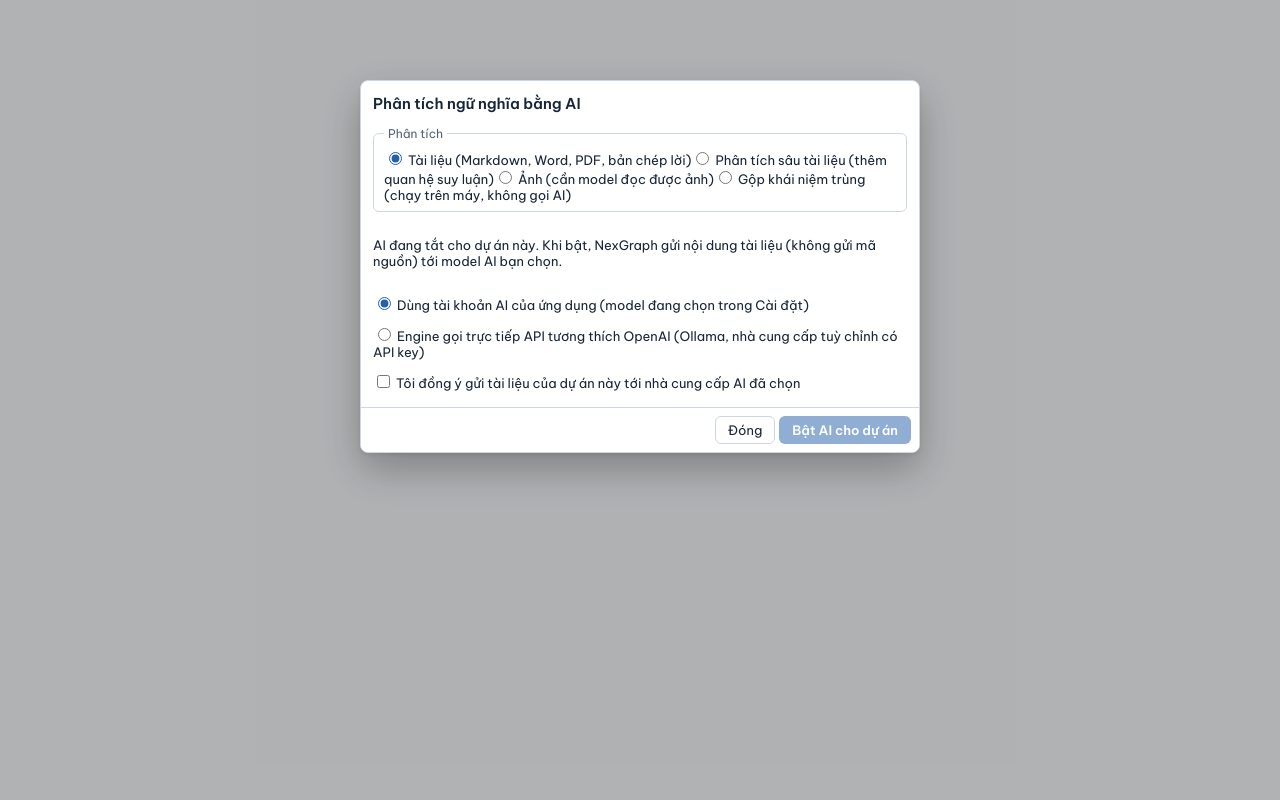
SemanticDialog › AI tắt mặc định: phải đồng ý mới bật, rồi xem ước tính và chạy
The image size is (1280, 800).
Expected: the button "Bật AI cho dự án" is disabled, [779, 416, 911, 444]
What coordinates should you click on to do the following:
click the radio button labelled "Engine gọi trực tiếp"
I would click on:
 (384, 334)
Its box is [378, 328, 391, 341].
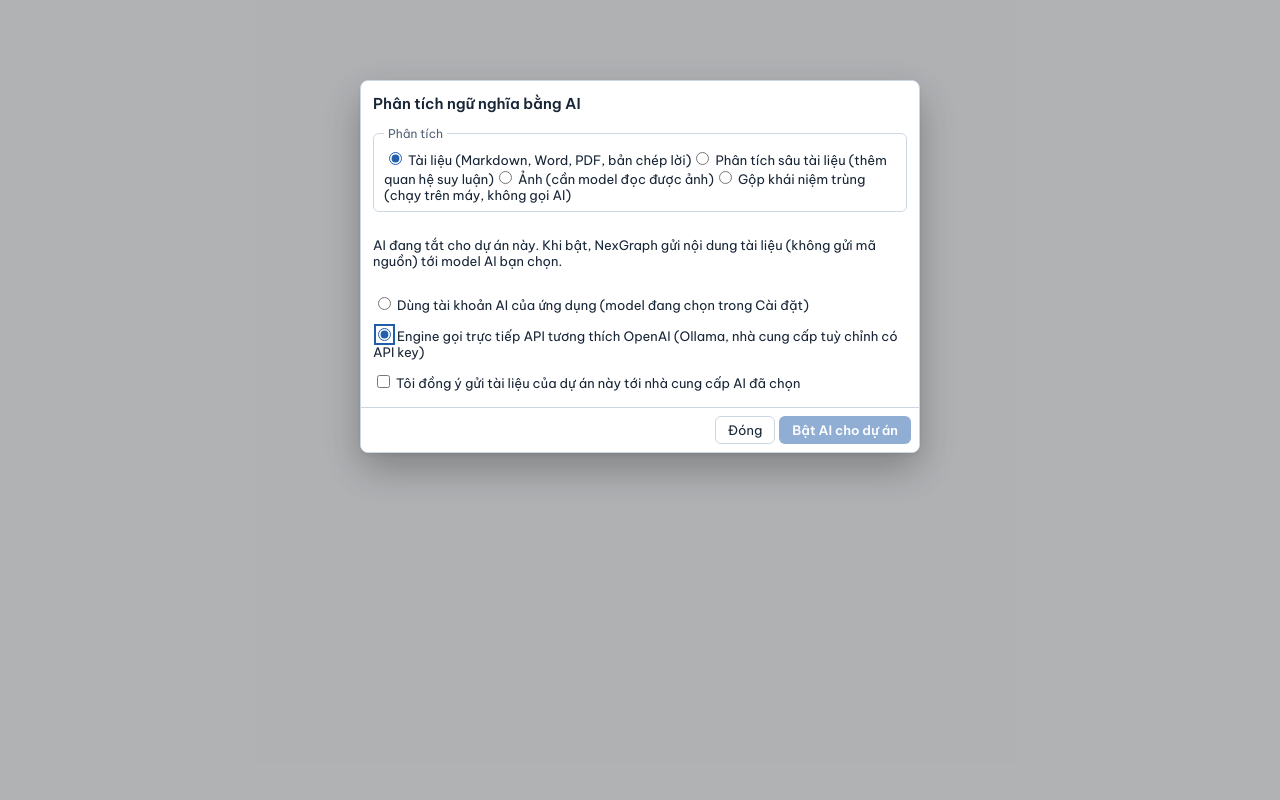
What coordinates should you click on to do the following:
click the checkbox labelled "Tôi đồng ý"
I would click on:
 (384, 382)
Its box is [377, 375, 390, 388].
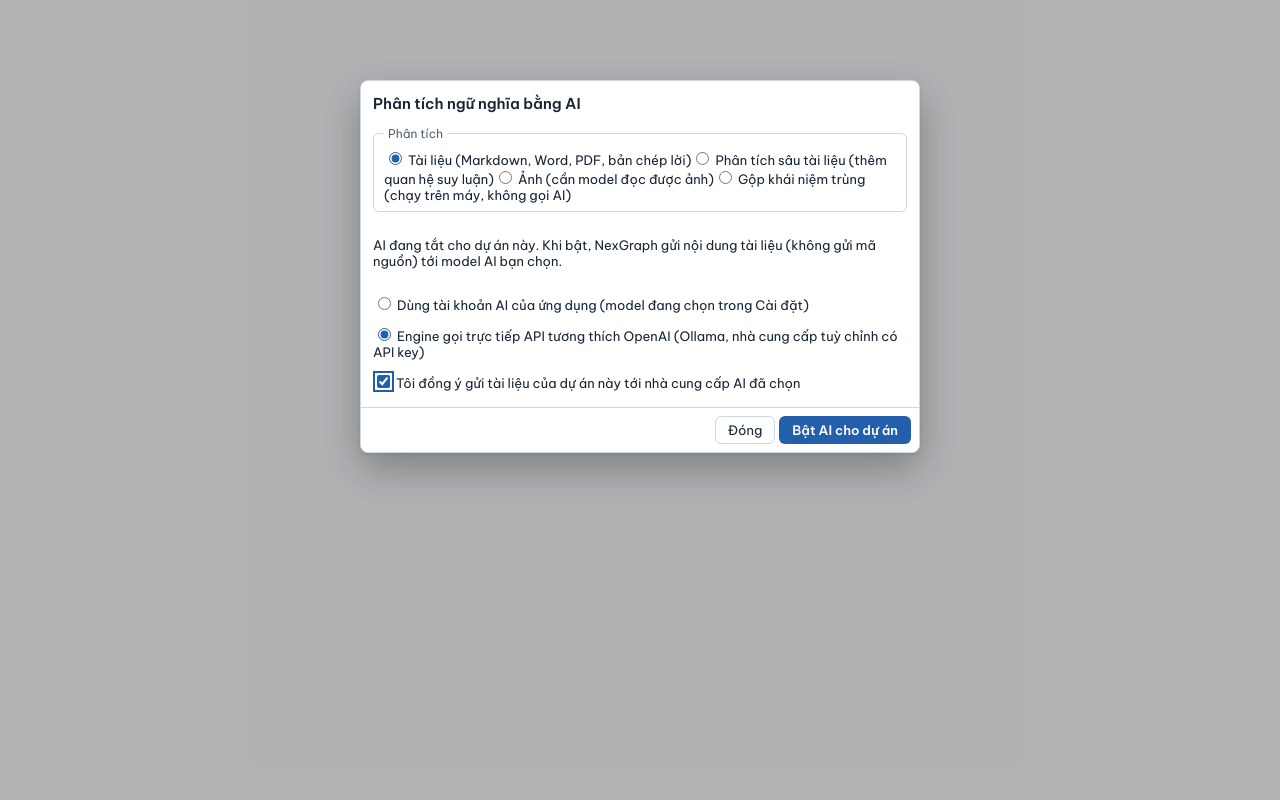
What coordinates should you click on to do the following:
click the button "Bật AI cho dự án"
I would click on:
 (845, 430)
Its box is [779, 416, 911, 444].
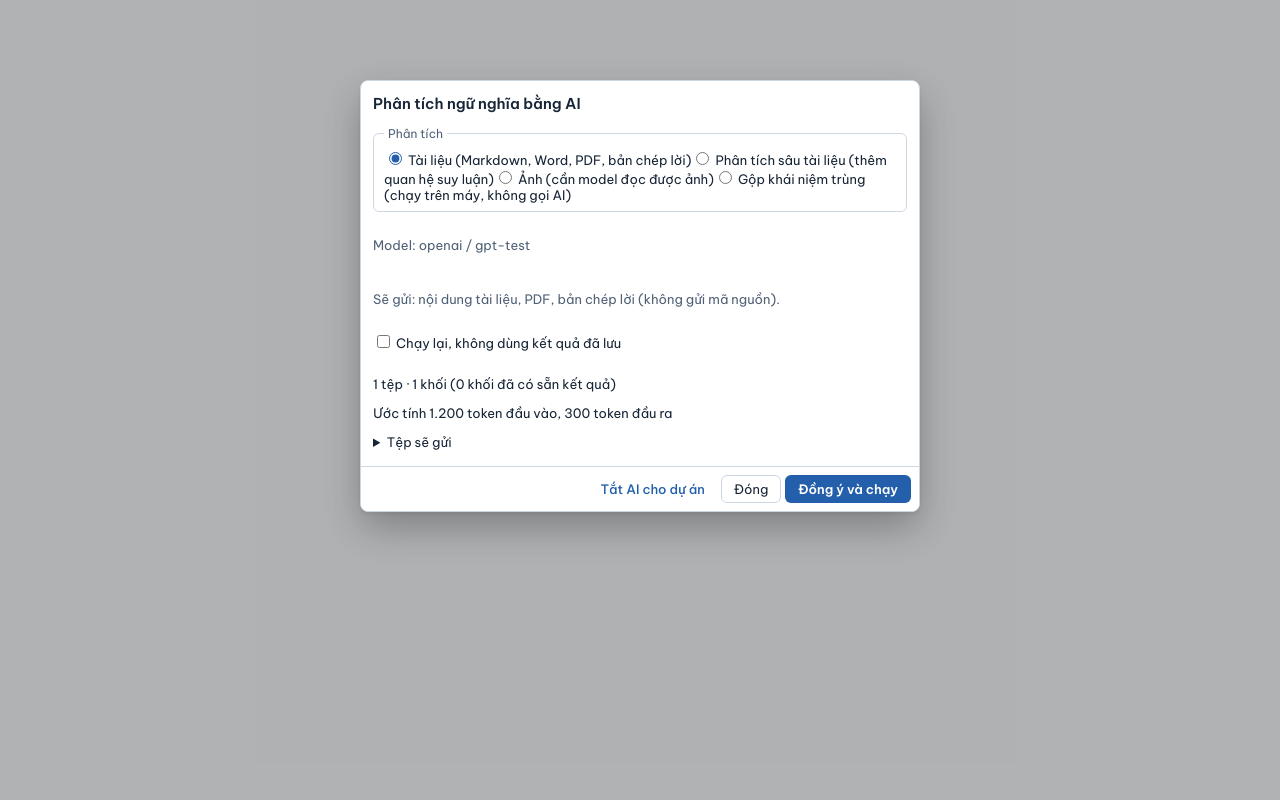
Expected: the text "1 tệp · 1 khối (0 khối đã có sẵn kết quả)" is shown, [373, 376, 616, 392]
Expected: the text "Model: openai / gpt-test" is shown, [373, 237, 530, 253]
What coordinates should you click on to do the following:
click the button "Đồng ý và chạy"
I would click on:
 (848, 489)
Its box is [785, 475, 911, 503].
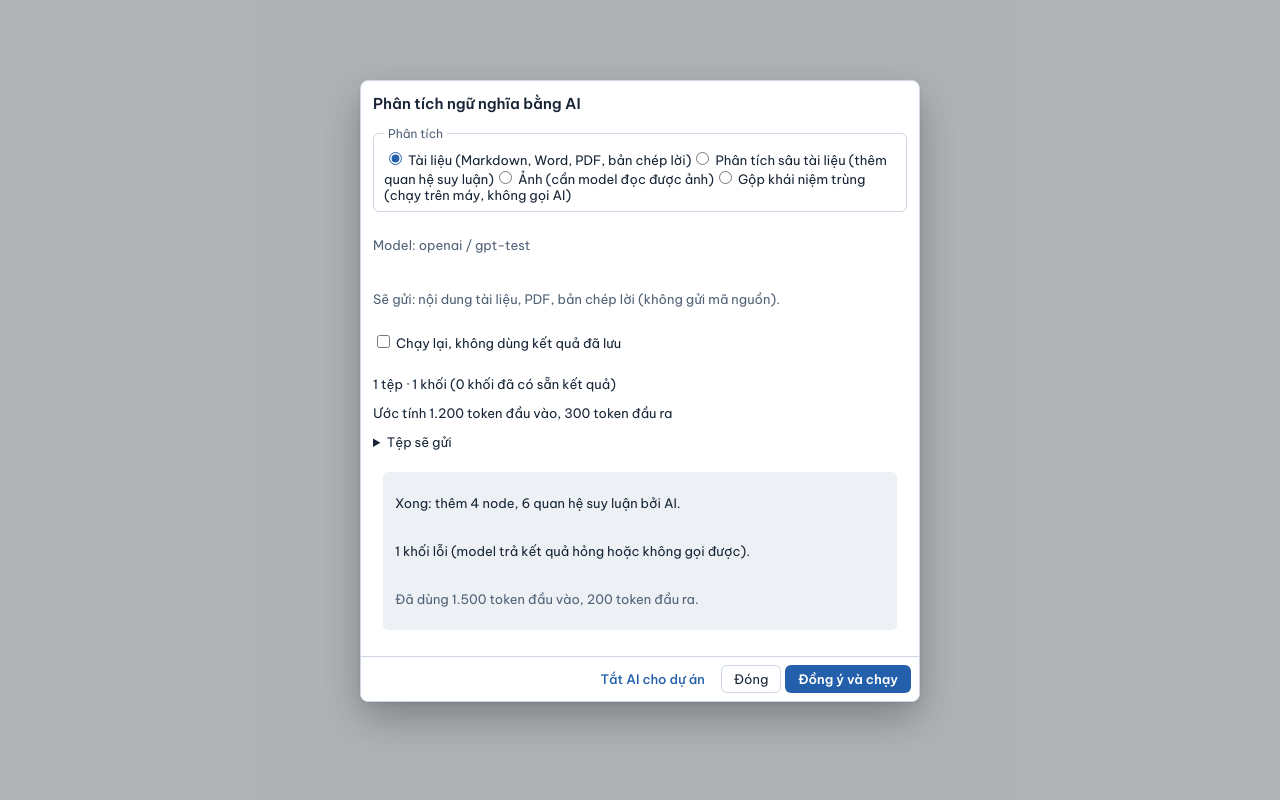
Expected: the text "Xong: thêm 4 node, 6 quan hệ suy luận bởi AI." is shown, [395, 495, 681, 511]
Expected: the text "1 khối lỗi (model trả kết quả hỏng hoặc không gọi được)." is shown, [395, 543, 750, 559]
Expected: the text "Đã dùng 1.500 token đầu vào, 200 token đầu ra." is shown, [395, 591, 699, 607]
